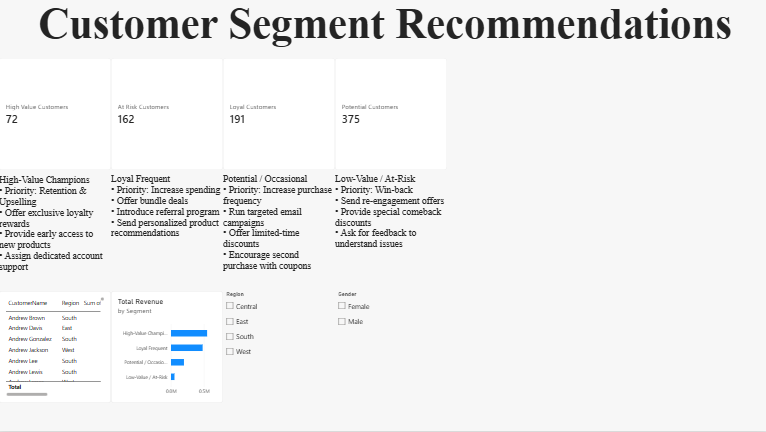

This screenshot's page, from the dashboard's own definition file:
{"tool":"powerbi","page":{"name":"Recommendations","canvas":[1920,1080],"ordinal":3},"visuals":[{"type":"textbox","box":[10.1,0,1909.9,148.7],"z":0},{"type":"cardVisual","fields":{"Data":["customer_segments.At Risk Customers"]},"box":[279.7,148.7,280,280],"z":1000},{"type":"cardVisual","fields":{"Data":["customer_segments.Loyal Customers"]},"box":[559.4,148.7,280,280],"z":2000},{"type":"cardVisual","fields":{"Data":["customer_segments.Potential Customers"]},"box":[839.1,148.7,280,280],"z":3000},{"type":"cardVisual","fields":{"Data":["customer_segments.High Value Customers"]},"box":[0,148.7,280,280],"z":4000},{"type":"textbox","box":[0,439,280,280],"z":5000},{"type":"textbox","box":[279.7,438.4,280,280],"z":6000},{"type":"textbox","box":[560,438,279,280],"z":7000},{"type":"textbox","box":[839,438,280,280],"z":8000},{"type":"tableEx","fields":{"Values":["customer_segments.CustomerName","customer_segments.Region","Sum(customer_segments.Recency)","Sum(customer_segments.Frequency)","Sum(customer_segments.Monetary)"]},"box":[0,729,280,280],"z":9000},{"type":"barChart","fields":{"Category":["customer_segments.Segment"],"Y":["customer_segments.Total Revenue"]},"box":[280,729,280,280],"z":10000},{"type":"slicer","fields":{"Values":["customer_segments.Region"]},"box":[560,729,279,280],"z":10001},{"type":"slicer","fields":{"Values":["customer_segments.Gender"]},"box":[839,729,280,280],"z":10002}]}

Visuals, with their boxes in screenshot pixels (x1, y1, x2, y2), scaled from the page's 1920x1080 canvas onto the 766x432 screenshot:
textbox: bbox=(4, 0, 765, 59)
cardVisual - customer_segments.At Risk Customers: bbox=(112, 59, 223, 171)
cardVisual - customer_segments.Loyal Customers: bbox=(223, 59, 335, 171)
cardVisual - customer_segments.Potential Customers: bbox=(335, 59, 446, 171)
cardVisual - customer_segments.High Value Customers: bbox=(0, 59, 112, 171)
textbox: bbox=(0, 176, 112, 288)
textbox: bbox=(112, 175, 223, 287)
textbox: bbox=(223, 175, 335, 287)
textbox: bbox=(335, 175, 446, 287)
tableEx - customer_segments.CustomerName x customer_segments.Region: bbox=(0, 292, 112, 404)
barChart - customer_segments.Segment x customer_segments.Total Revenue: bbox=(112, 292, 223, 404)
slicer - customer_segments.Region: bbox=(223, 292, 335, 404)
slicer - customer_segments.Gender: bbox=(335, 292, 446, 404)
